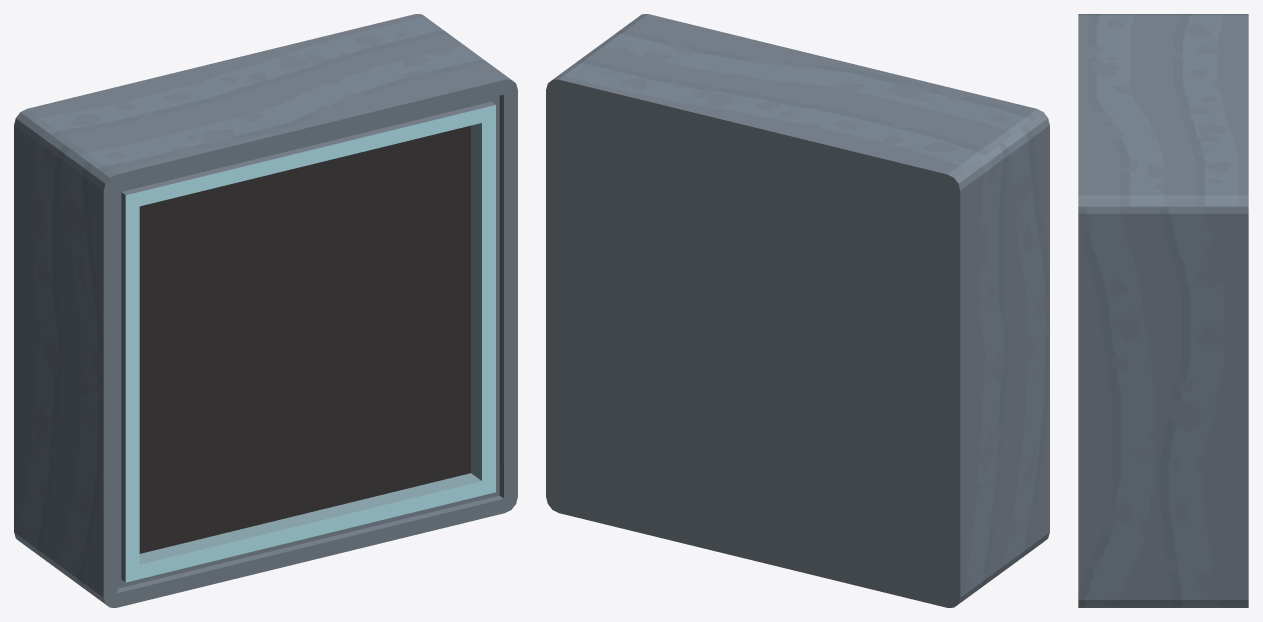
File: CajaPuzle.fbx
3 renders of one model, left to right at view 1: azimuth 30°, elevation 25°; view 2: azimuth 150°, elevation 25°; view 3: azimuth 270°, elevation 25°, orthographic. The views are drawn at different scales.
Visible parts, largest first — view 1: Caja, Tapa; view 2: Caja; view 3: Caja.
Boxes of the visible parts, x1,y1,x2,y2 form: Caja: (14, 14, 517, 607); Tapa: (139, 125, 470, 553); Caja: (546, 14, 1049, 607); Caja: (1078, 14, 1248, 607).
Bounding box in the file's own units: 0.4 × 0.4 × 0.15.
